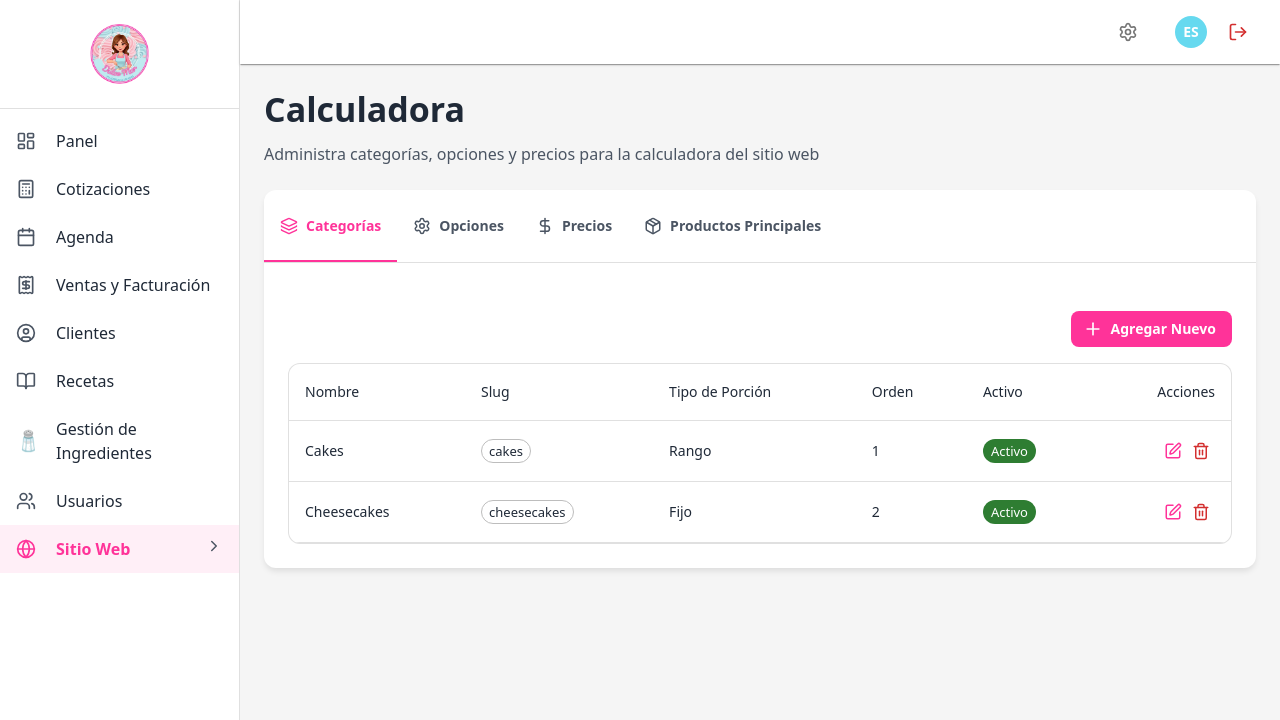
Test: Calculator Products Management › Categories Tab › should show delete confirmation when clicking delete button
Click the button named "Eliminar" in the row of "Rango" at [1201, 451], box x1=1187 y1=437 x2=1215 y2=465
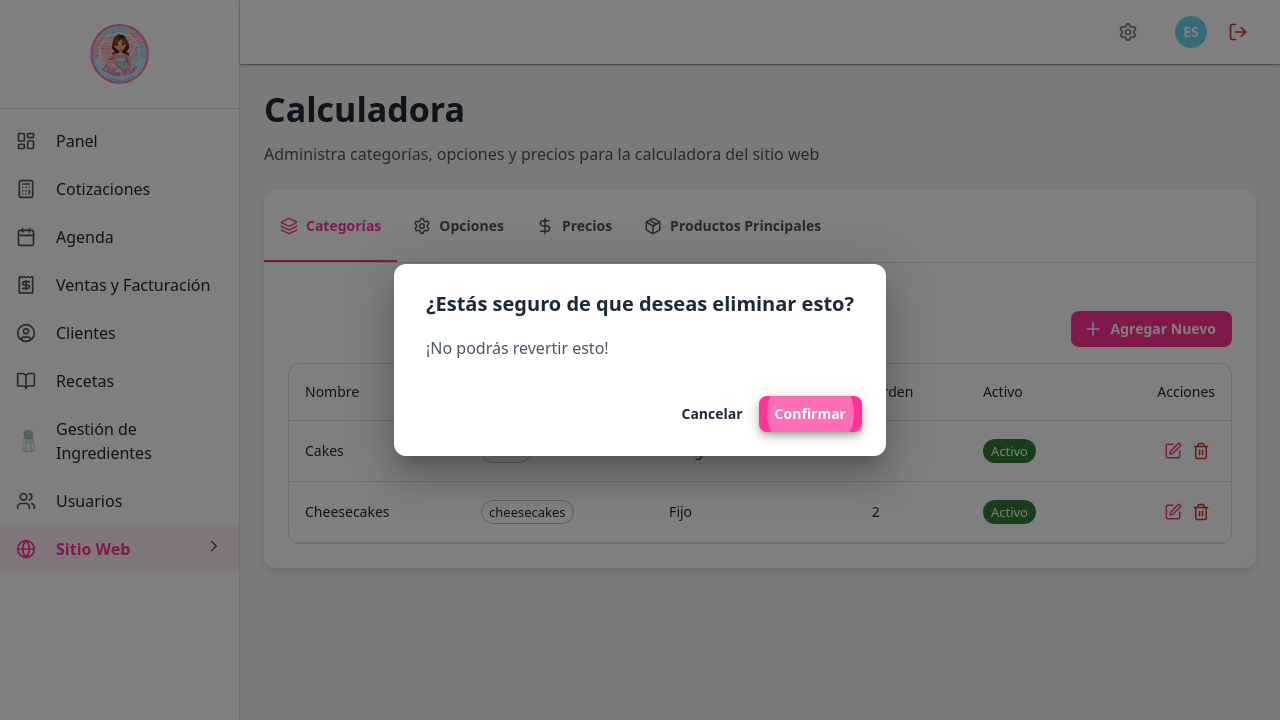
expect the heading "¿Estás seguro" is shown: met, box x1=426 y1=290 x2=854 y2=317
